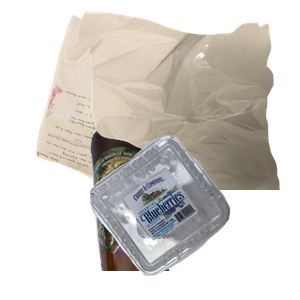glass: (88, 120, 252, 300)
paper: (33, 12, 214, 192)
plastic: (88, 133, 300, 300)
trash: (61, 10, 300, 190)
